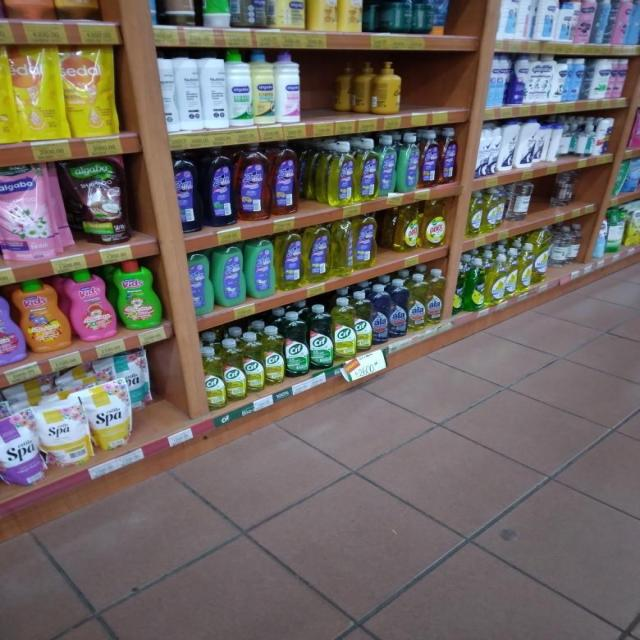ala_conc_amarillo: (408, 273, 426, 334), (426, 268, 444, 328)
ala_conc_azul: (389, 278, 407, 339), (371, 284, 388, 345)
cif_conc_bot_amarilla: (202, 339, 224, 412), (333, 297, 355, 364), (225, 336, 244, 402), (264, 325, 284, 387), (245, 330, 263, 394), (355, 292, 371, 354), (51, 0, 95, 21)
cif_conc_botella_verde: (285, 310, 308, 378), (310, 304, 332, 371)
magistral_con_amarillo: (422, 198, 448, 248), (394, 202, 420, 252), (487, 252, 507, 307), (484, 186, 506, 234), (466, 189, 484, 238), (519, 242, 534, 292)
zorro: (236, 142, 268, 222), (203, 146, 234, 227), (270, 140, 299, 216), (326, 140, 353, 206), (276, 229, 303, 292), (247, 236, 274, 299), (304, 223, 330, 284), (355, 137, 377, 202), (397, 132, 419, 193), (420, 130, 440, 188), (378, 134, 396, 197)
